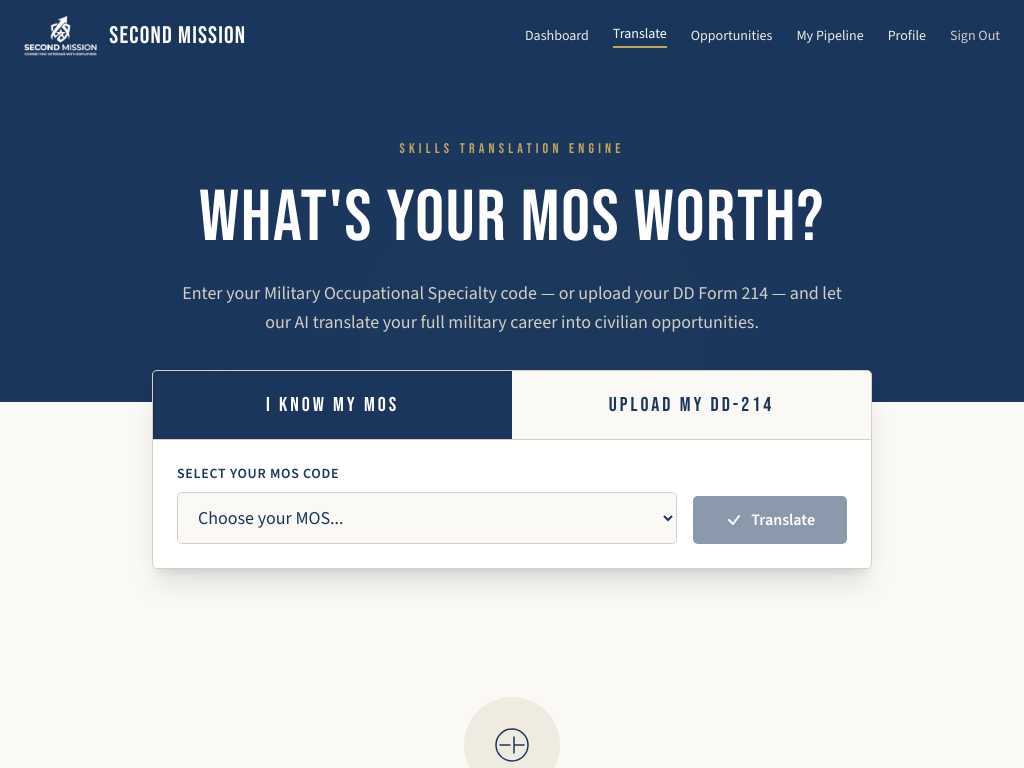
TranslatePage › switches to the DD-214 upload tab and shows the upload UI
Click the tab "UPLOAD MY DD-214". click: (692, 404)
box: 512,370 -> 871,438
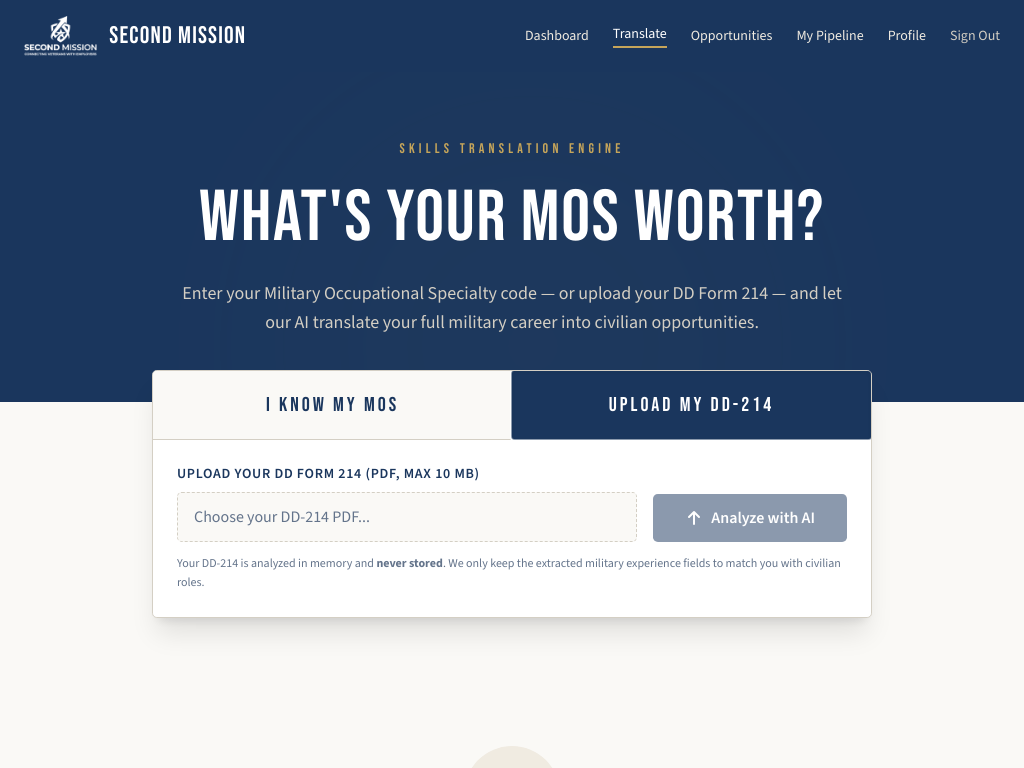
Expected: the text "Choose your DD-214 PDF..." is shown, 194,506 -> 370,526
Expected: the text "never stored" is shown, 376,554 -> 443,570
